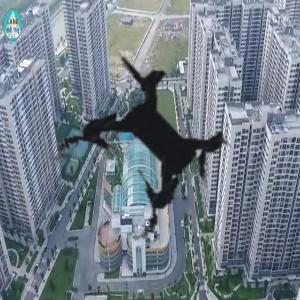drone: (5, 2, 296, 293)
